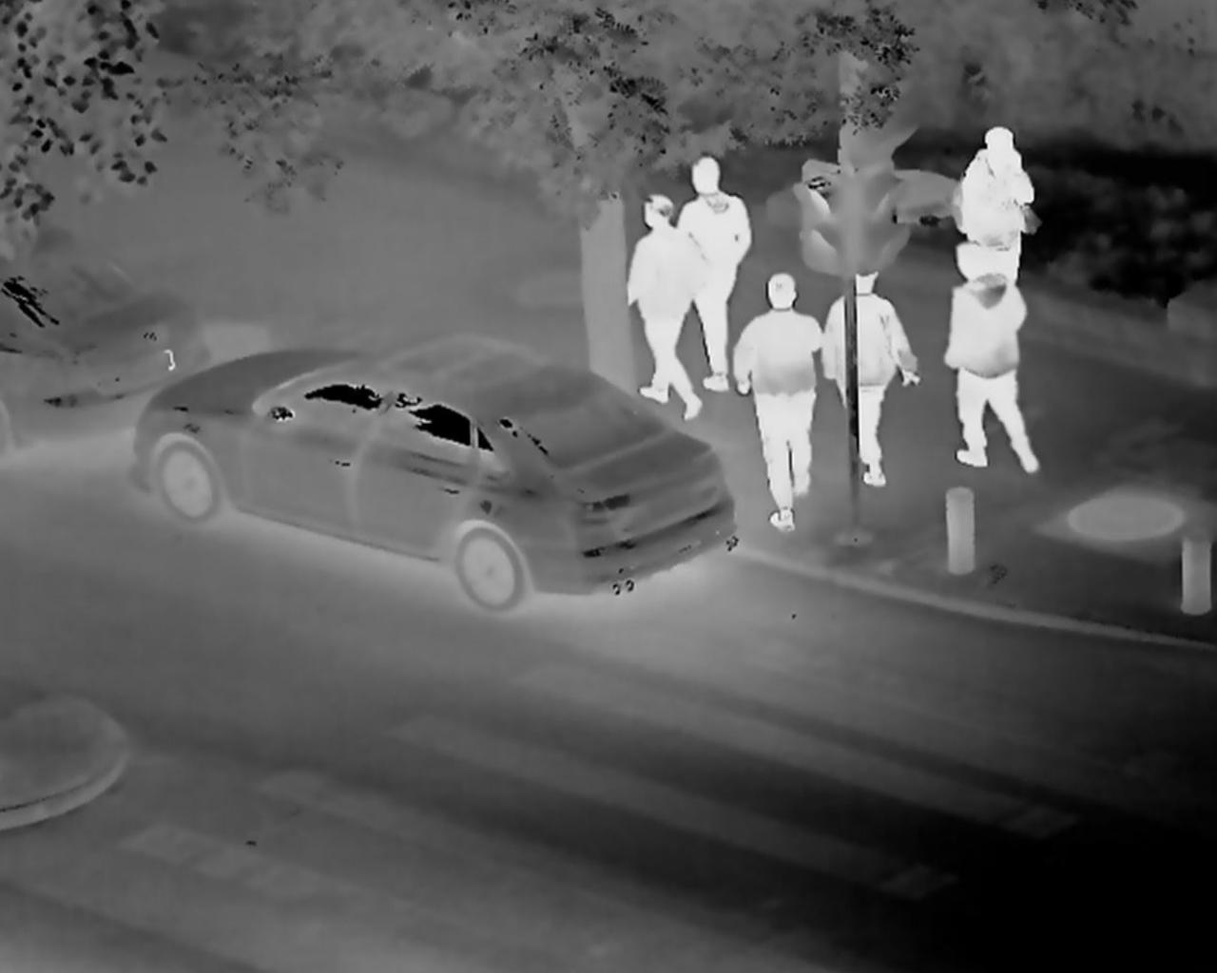person: (705, 247, 828, 530), (934, 238, 1039, 494), (594, 195, 709, 428), (810, 252, 917, 492), (947, 119, 1043, 351), (679, 143, 752, 404)
